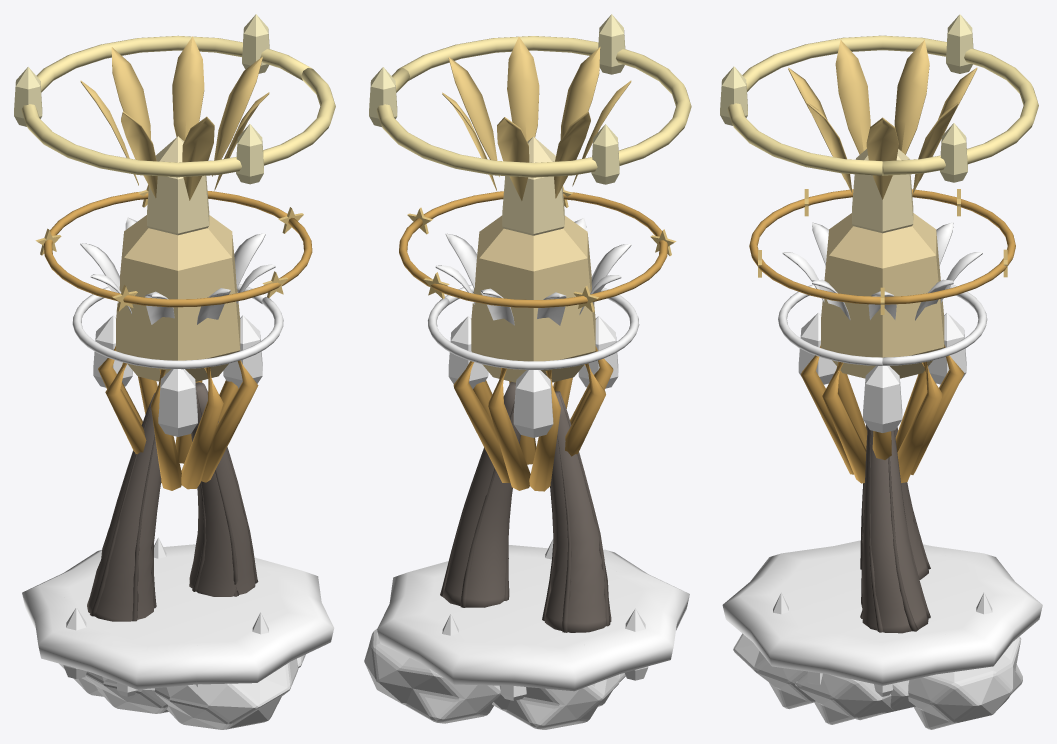
The model's file is prism-5.fbx.
3 renders of one model, left to right at view 1: azimuth 30°, elevation 25°; view 2: azimuth 150°, elevation 25°; view 3: azimuth 270°, elevation 25°, orthographic.
Visible parts, largest first — view 1: SuperPlinth, Turret_Metal, Core_Glow, Turret_Bark, Ring03_SuperGlow, Base_Stone, Ring02_Metal, Turret_Glow, Petals_Metal, RuneHalo, Base_Glow; view 2: SuperPlinth, Turret_Metal, Core_Glow, Turret_Bark, Ring03_SuperGlow, Base_Stone, Ring02_Metal, Turret_Glow, Petals_Metal, RuneHalo, Base_Glow; view 3: SuperPlinth, Core_Glow, Turret_Metal, Ring03_SuperGlow, Base_Stone, Turret_Bark, Ring02_Metal, Turret_Glow, RuneHalo, Petals_Metal, Base_Glow.
Boxes of the visible parts, x1,y1,x2,y2 form: SuperPlinth: (22, 544, 334, 689); Turret_Metal: (80, 36, 269, 490); Core_Glow: (116, 136, 240, 381); Turret_Bark: (87, 382, 258, 621); Ring03_SuperGlow: (14, 14, 335, 184); Base_Stone: (59, 654, 305, 729); Ring02_Metal: (35, 185, 312, 311); Turret_Glow: (93, 315, 262, 436); Petals_Metal: (80, 217, 275, 324); RuneHalo: (72, 284, 283, 369); Base_Glow: (63, 537, 268, 696); SuperPlinth: (377, 545, 689, 691); Turret_Metal: (442, 36, 631, 491); Core_Glow: (471, 136, 595, 382); Turret_Bark: (440, 382, 611, 632); Ring03_SuperGlow: (369, 14, 691, 184); Base_Stone: (364, 629, 625, 729); Ring02_Metal: (399, 186, 676, 312); Turret_Glow: (448, 316, 618, 437); Petals_Metal: (435, 218, 631, 325); RuneHalo: (427, 284, 639, 369); Base_Glow: (419, 539, 648, 700); SuperPlinth: (722, 540, 1042, 685); Core_Glow: (821, 149, 944, 378); Turret_Metal: (788, 40, 977, 483); Ring03_SuperGlow: (720, 14, 1038, 182); Base_Stone: (733, 633, 1022, 729); Turret_Bark: (860, 424, 930, 633); Ring02_Metal: (749, 189, 1015, 314); Turret_Glow: (798, 312, 966, 432); RuneHalo: (778, 284, 987, 365); Petals_Metal: (782, 222, 982, 320); Base_Glow: (773, 579, 992, 696).
Size of the model in its own units: 111 by 239 by 112.
